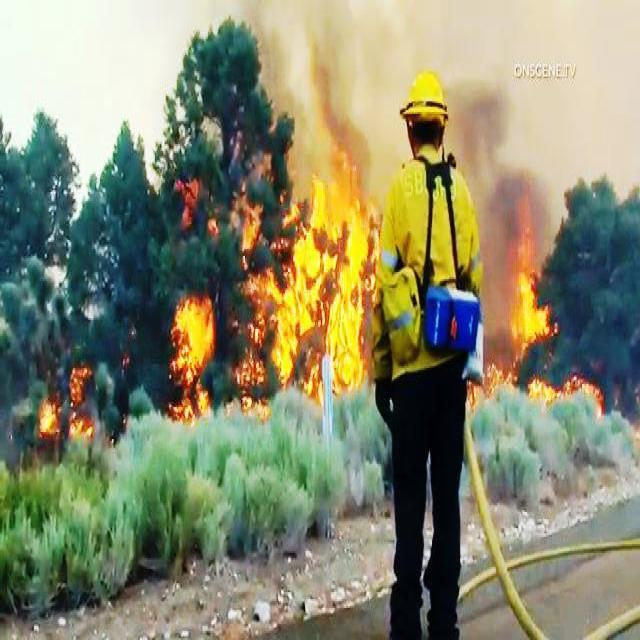Fire: (228, 174, 384, 426), (460, 355, 609, 423), (164, 298, 217, 428), (28, 359, 96, 456), (509, 209, 548, 339), (173, 170, 219, 246)
Smoke: (450, 28, 640, 176), (260, 9, 369, 172)
